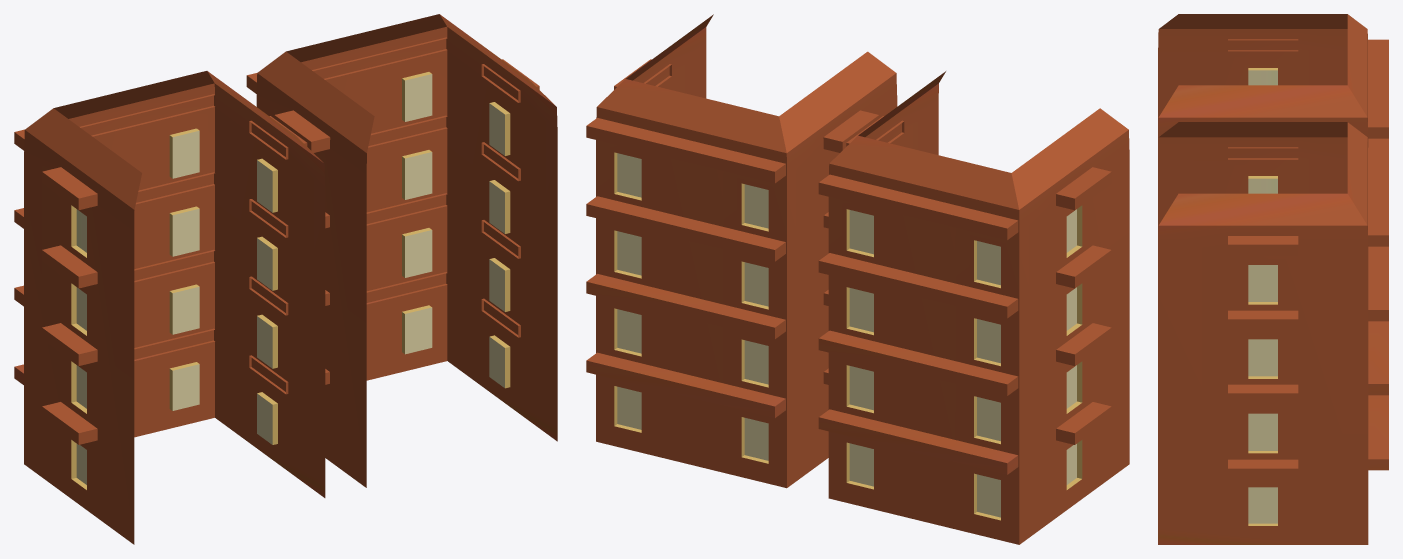
Rendered from ExitBlock.fbx.
The picture shows the model from 3 angles, left to right: view 1: azimuth 30°, elevation 25°; view 2: azimuth 150°, elevation 25°; view 3: azimuth 270°, elevation 25°; orthographic projection. The views are drawn at different scales.
Visible parts, largest first — view 1: apartment.003; view 2: apartment.003; view 3: apartment.003.
Part boxes in pixels (left/top/right/bottom): apartment.003: left=14, top=14, right=557, bottom=544; apartment.003: left=586, top=14, right=1129, bottom=544; apartment.003: left=1158, top=14, right=1388, bottom=544.
Size of the model in its own units: 2416 by 1098 by 1800.
